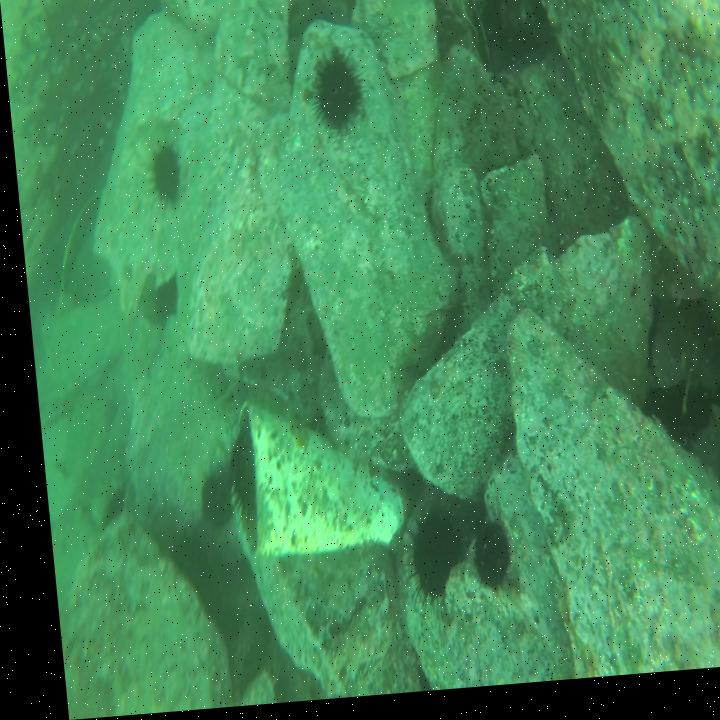echinus: (308, 59, 363, 143), (393, 522, 445, 606), (461, 530, 502, 601), (216, 443, 250, 517), (144, 145, 179, 214), (188, 476, 225, 532)
